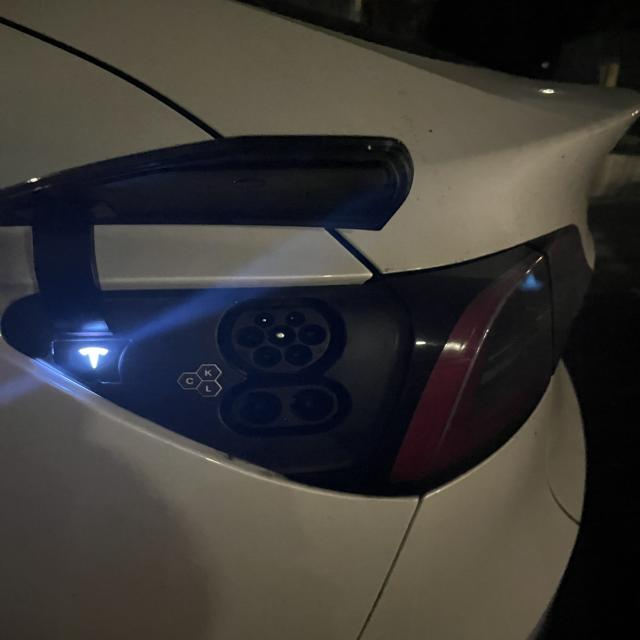inlet: (232, 308, 331, 373)
inlet-above-left: (255, 313, 274, 327)
inlet-above-right: (285, 311, 306, 327)
inlet-below-left: (252, 345, 282, 368)
inlet-below-right: (283, 344, 313, 366)
inlet-circle: (267, 325, 296, 347)
inlet-circle-left: (235, 326, 265, 348)
inlet-circle-right: (298, 324, 327, 345)
inlet-minus: (289, 388, 334, 421)
inlet-plus: (238, 391, 283, 425)
